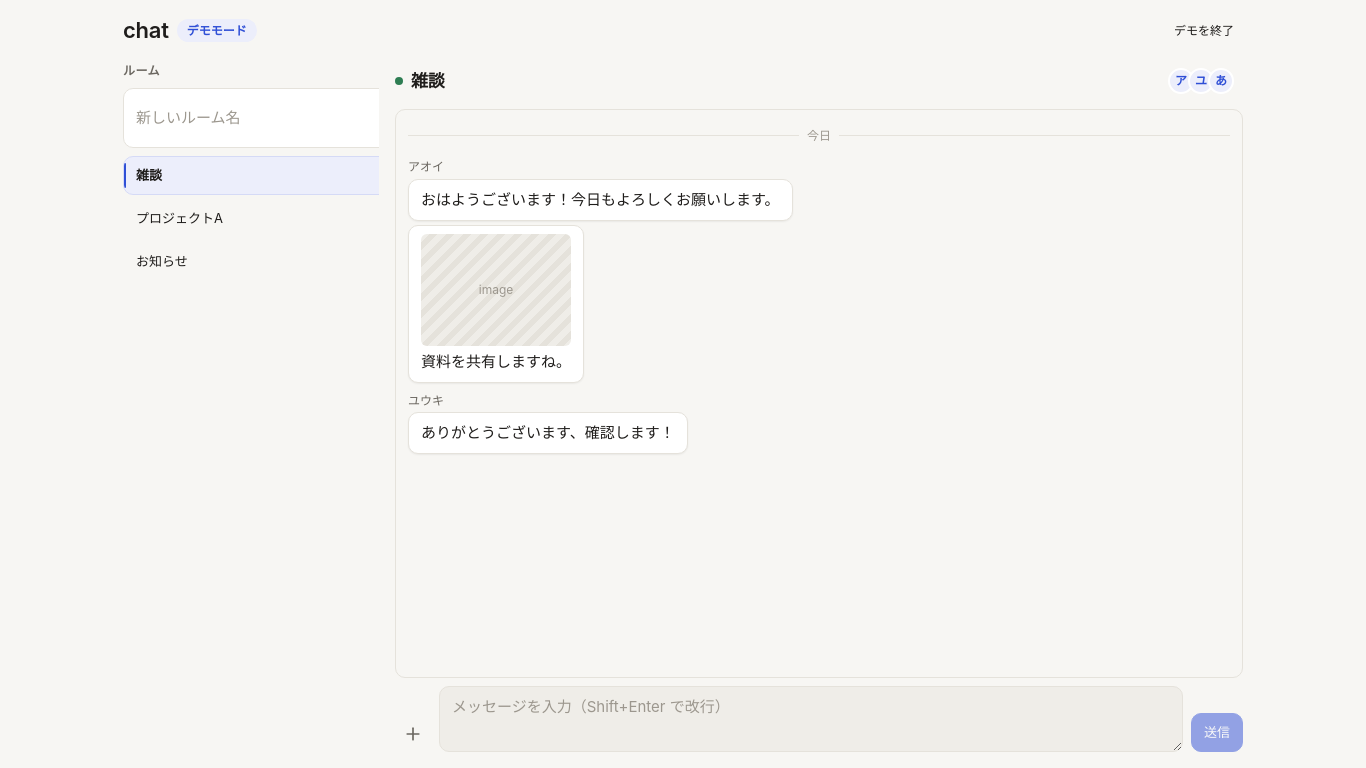
it: 自分のメッセージを削除するとプレースホルダになる
Type "消します" into the text box with placeholder "メッセージを入力（Shift+Enter で改行）". click: (811, 719)
box: x1=439 y1=686 x2=1183 y2=752
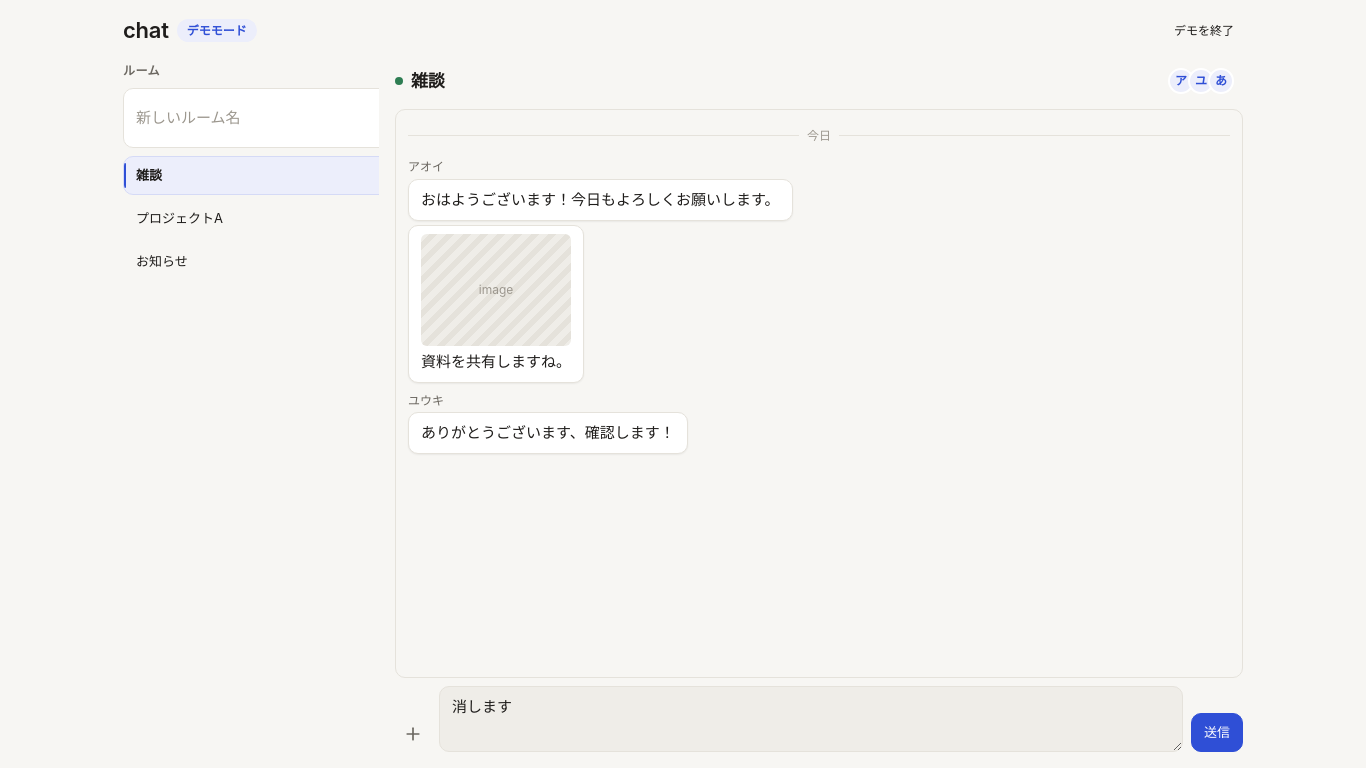
Click the button "送信". click: click(1217, 733)
box: x1=1191 y1=713 x2=1243 y2=752
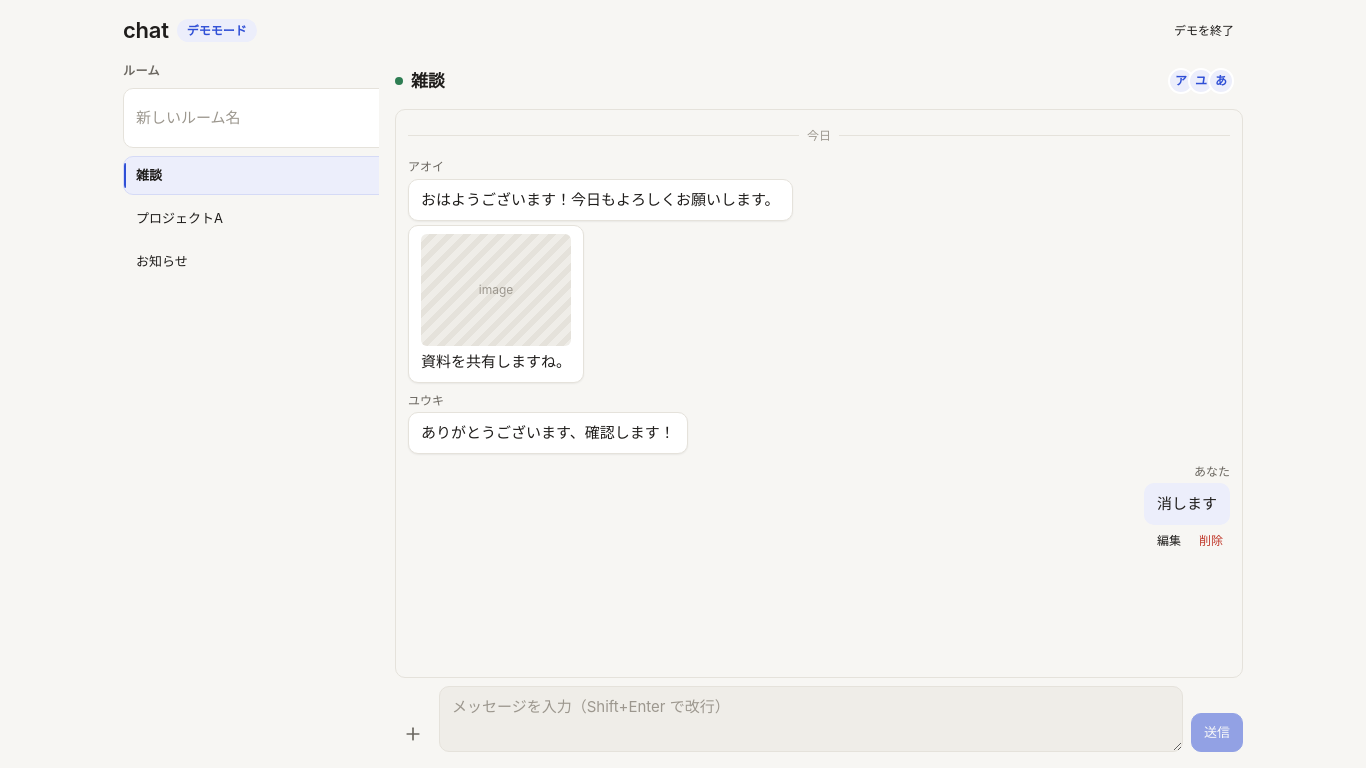
Click the button with aria-label "メッセージを削除". click: click(1211, 541)
box: x1=1192 y1=529 x2=1230 y2=553
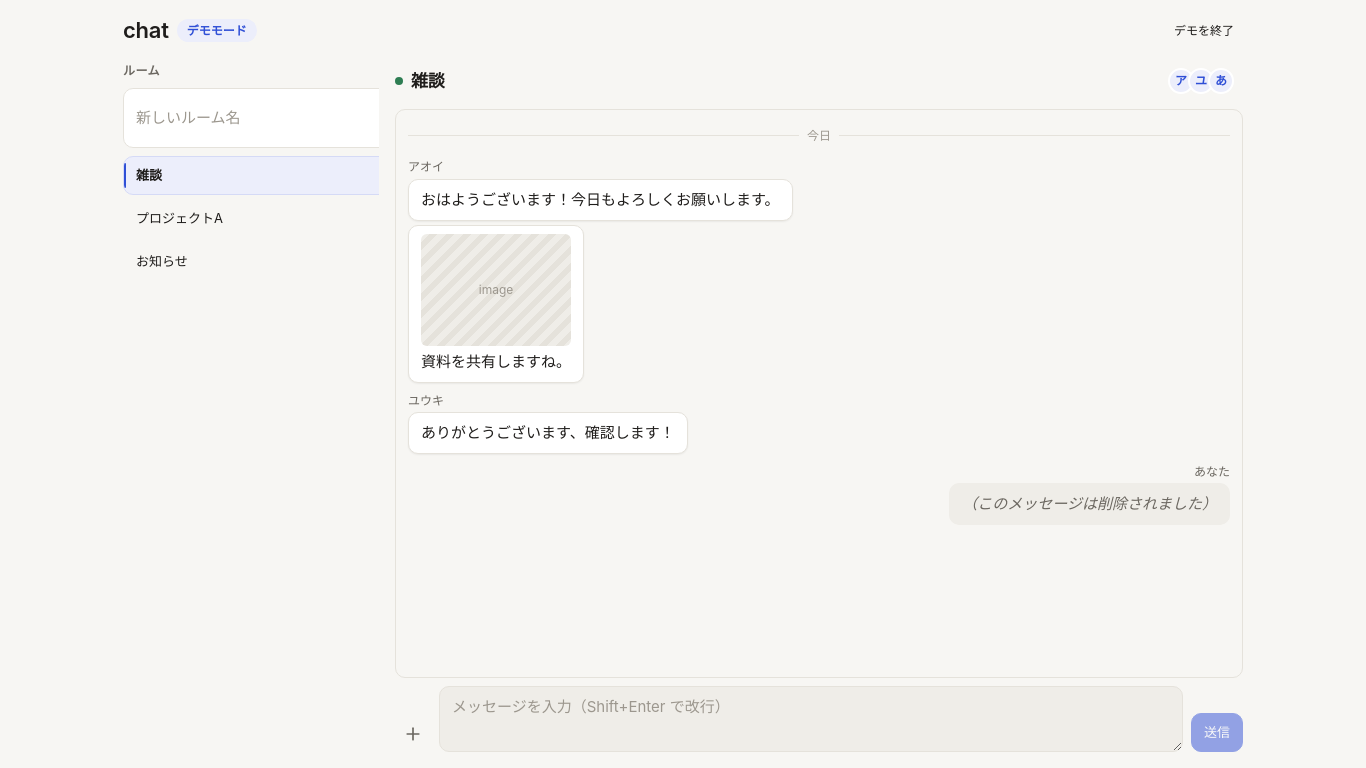
Now the text "（このメッセージは削除されました）" is shown, box x1=949 y1=483 x2=1230 y2=525
Now the text "消します" is gone
